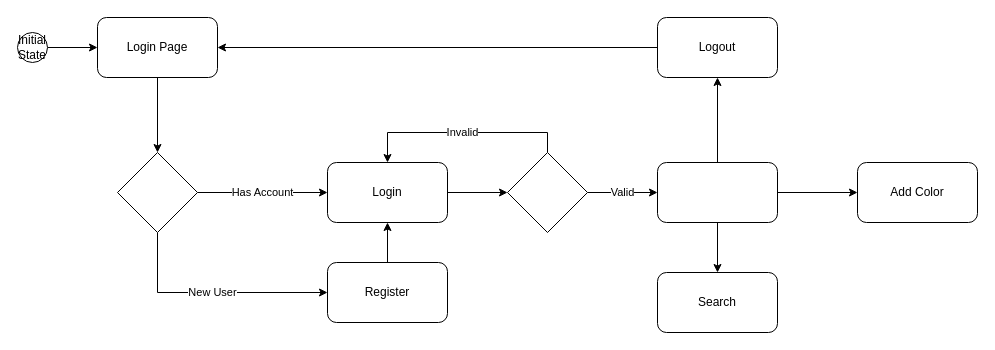
This 995x350 diagram has some shape labels left out. Here are the shapes that lost their labels. From the top down, the box of each, then its label:
(116, 152, 198, 232): Account status
(506, 152, 588, 232): Valid Credentials
(656, 162, 778, 222): User Color Page
